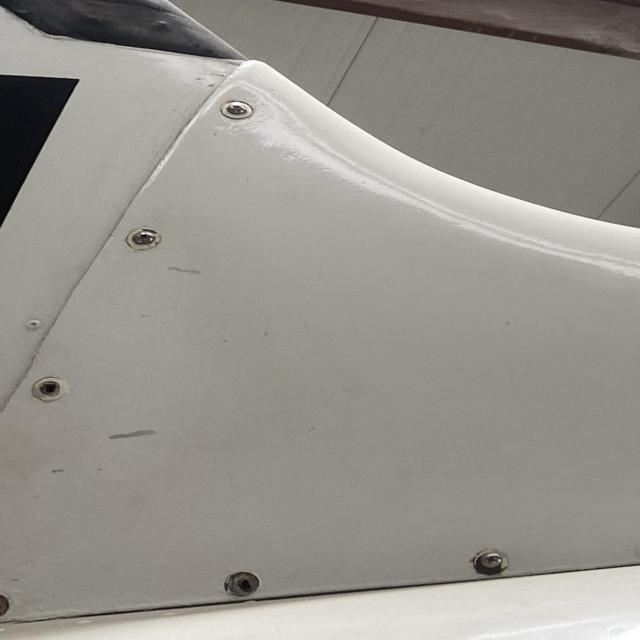Missing-head: (220, 571, 257, 600), (25, 377, 63, 403), (637, 543, 640, 554)
Paint-off: (153, 261, 213, 277), (104, 429, 151, 441), (41, 468, 61, 477)
